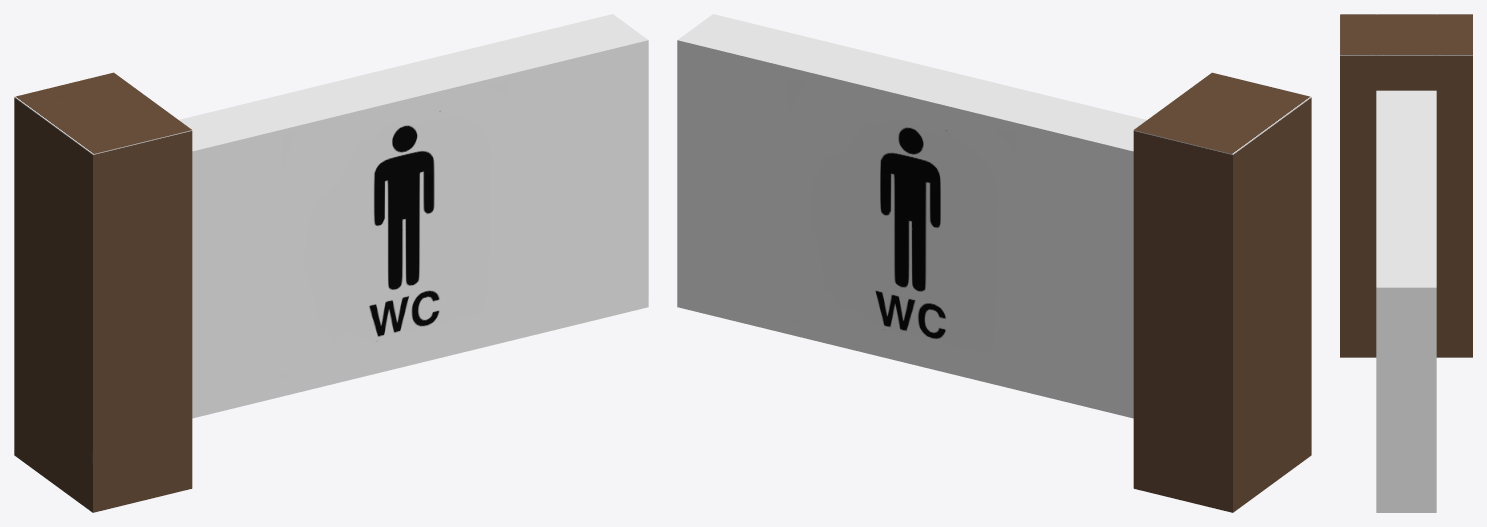
Rendered from wc znak chlop.glb.
The picture shows the model from 3 angles, left to right: view 1: azimuth 30°, elevation 25°; view 2: azimuth 150°, elevation 25°; view 3: azimuth 270°, elevation 25°; orthographic projection. The views are drawn at different scales.
Parts seen in each view (by area): view 1: Cube.009; view 2: Cube.009; view 3: Cube.009.
Part boxes in pixels (x1,y1,x2,y2): Cube.009: [14, 14, 648, 512]; Cube.009: [677, 14, 1311, 512]; Cube.009: [1340, 14, 1472, 512].
Size of the model in its own units: 1.07 by 0.6374 by 0.2533.
1 material, 1 textured.
